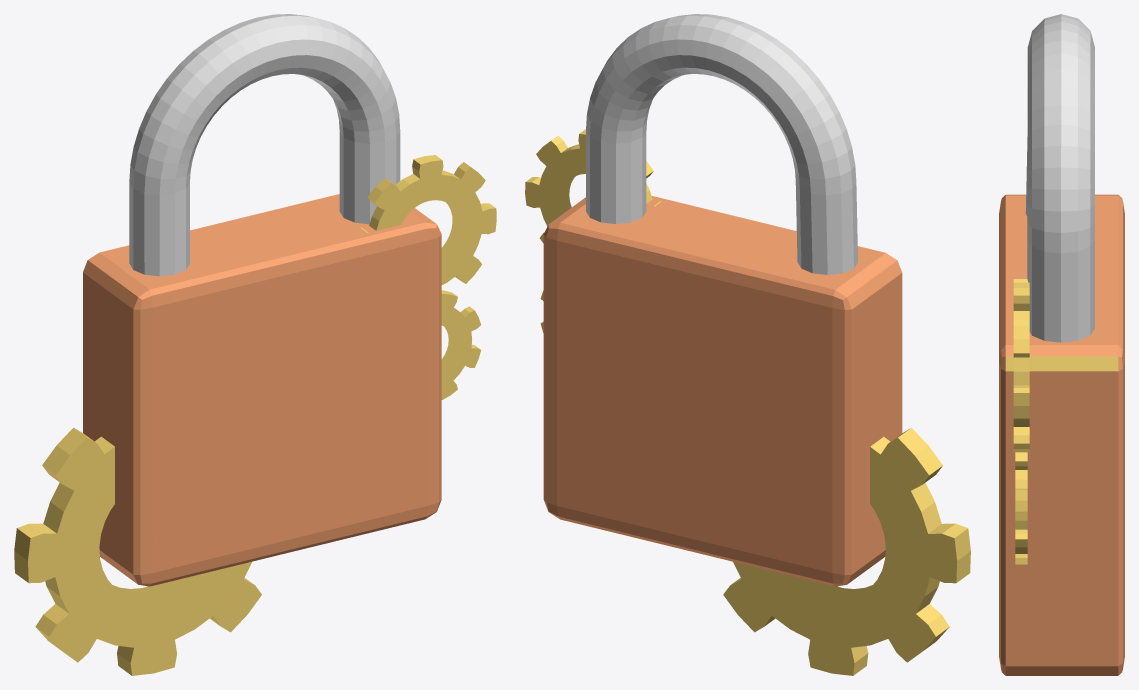
File: smart-lock.glb
The picture shows the model from 3 angles, left to right: view 1: azimuth 30°, elevation 25°; view 2: azimuth 150°, elevation 25°; view 3: azimuth 270°, elevation 25°; orthographic projection. The views are drawn at different scales.
Visible parts, largest first — view 1: Lock.005, Gear.003, Gear.002, Gear.001; view 2: Lock.005, Gear.003, Gear.002; view 3: Lock.005, Gear.002, Gear.001.
Boxes of the visible parts, x1,y1,x2,y2 form: Lock.005: (83,14,441,586); Gear.003: (14,427,261,675); Gear.002: (360,155,496,284); Gear.001: (441,290,480,399); Lock.005: (543,14,902,586); Gear.003: (723,428,970,675); Gear.002: (525,129,661,243); Lock.005: (999,14,1124,675); Gear.002: (1013,279,1029,452); Gear.001: (1015,452,1027,564).
Size of the model in its own units: 7.77 by 10.16 by 1.68.
